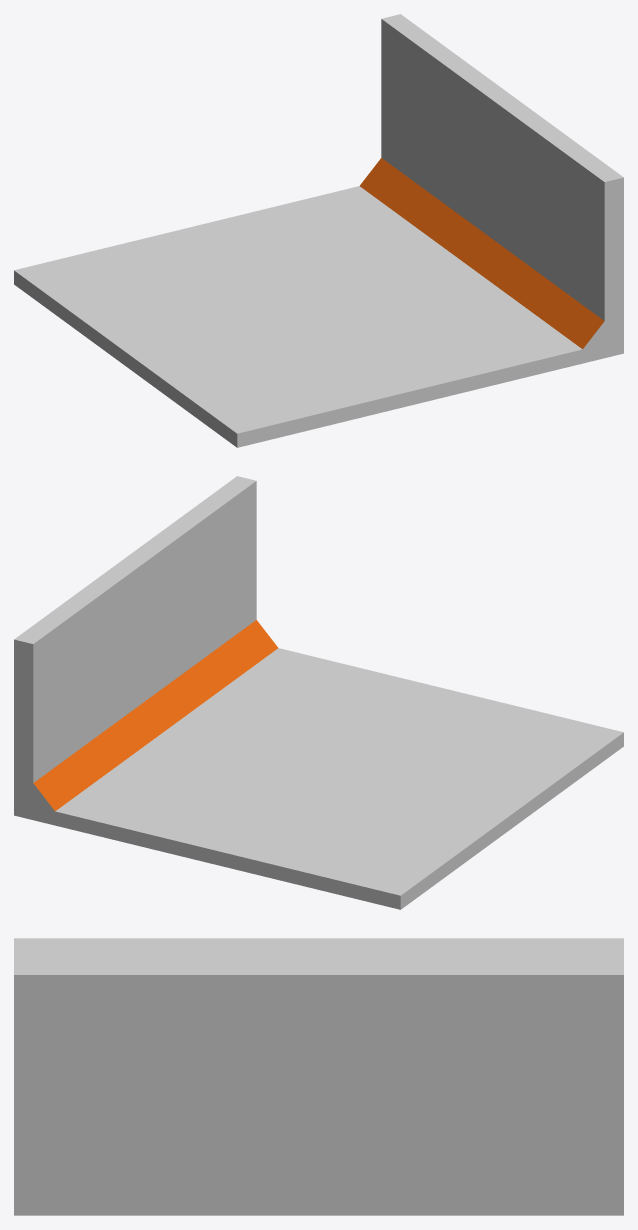
Rendered from 1-wall.fbx.
3 views of the same model, one above another, from view 1: azimuth 30°, elevation 25°; view 2: azimuth 150°, elevation 25°; view 3: azimuth 270°, elevation 25° (orthographic). The views are drawn at different scales.
Visible parts, largest first — view 1: Плоскость.016; view 2: Плоскость.016; view 3: Плоскость.016.
Boxes of the visible parts, x1,y1,x2,y2 form: Плоскость.016: (14,14,623,447); Плоскость.016: (14,476,623,909); Плоскость.016: (14,938,623,1215).
Bounding box in the file's own units: 599 × 260 × 599.
